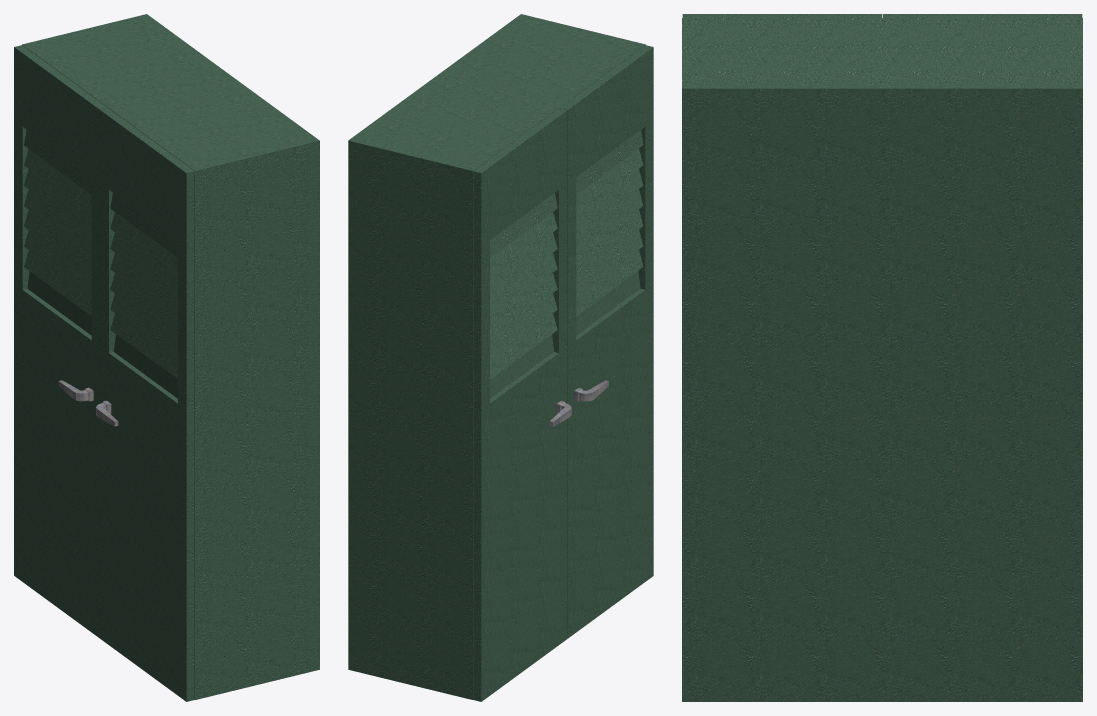
Rendered from kluisje.FBX.
The picture shows the model from 3 angles, left to right: view 1: azimuth 30°, elevation 25°; view 2: azimuth 150°, elevation 25°; view 3: azimuth 270°, elevation 25°; orthographic projection. The views are drawn at different scales.
Visible parts, largest first — view 1: Closet, Door, door; view 2: Closet, door, Door; view 3: Closet, Door, door.
Boxes of the visible parts, x1,y1,x2,y2 form: Closet: (22,14,319,699); Door: (100,108,194,701); door: (14,45,107,638); Closet: (348,14,645,699); door: (473,108,567,701); Door: (560,45,653,638); Closet: (682,18,1082,701); Door: (682,14,882,17); door: (883,14,1082,17).
Size of the model in its own units: 23.99 by 82.1 by 48.64.
2 materials, 2 textured.
